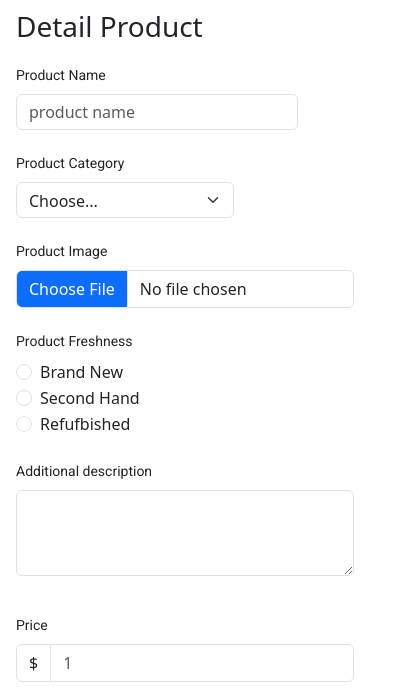
Test case: FormProduct › input form validation must be correct › there must be no more than 10 character in the product name
Type "Product Name must not exceed 10 characters." into the field labelled "Product Name" at x=157, y=112, box [16,94,298,130]
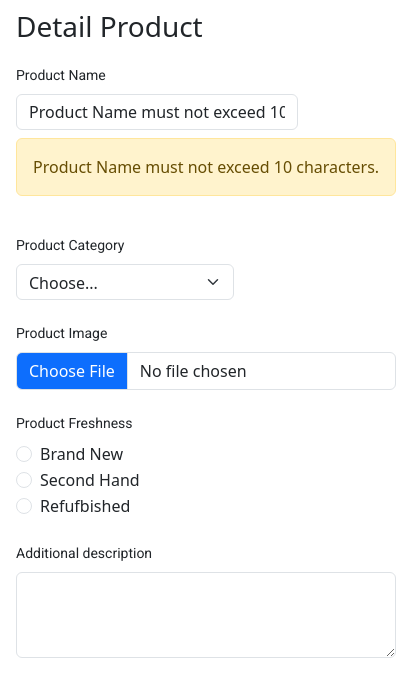
expect the text "Product Name must not exceed 10 characters." is shown: met, box [16,138,396,196]
